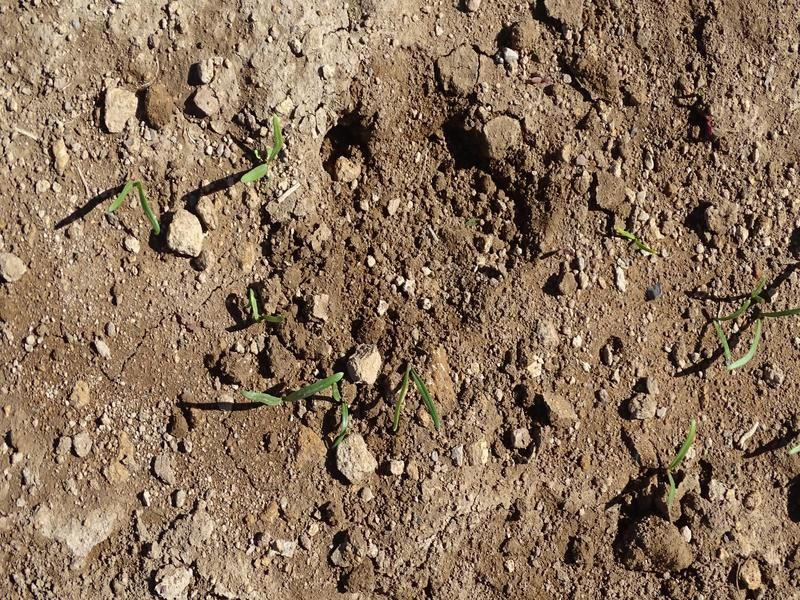Espinaca: (713, 279, 794, 369), (654, 421, 705, 511), (395, 362, 452, 435), (249, 368, 345, 407), (109, 175, 168, 233), (240, 116, 286, 185)
